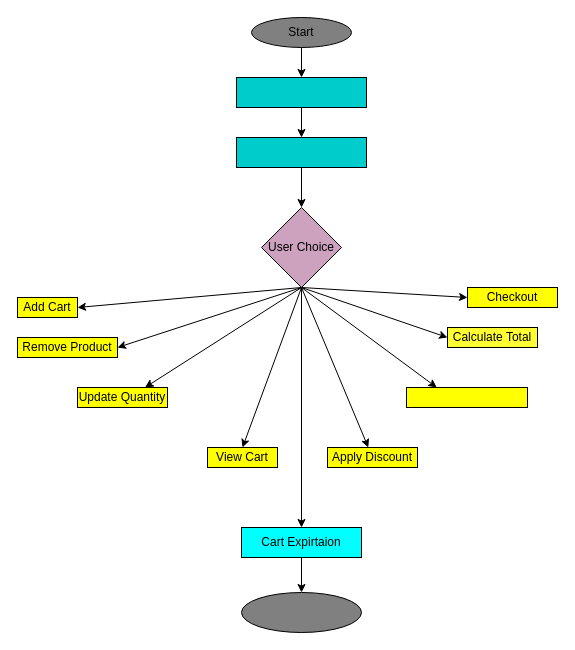
The diagram is 575 pixels wide and 650 high, and some of its shapes have lost their labels. The shapes that lost their labels are listed below. From the top down, each one's centre as x and y in pixels, then its label:
the point at 301,92: Initialize Shopping Card
the point at 301,152: Display Menu
the point at 467,397: Get Recommendation
the point at 301,612: End
